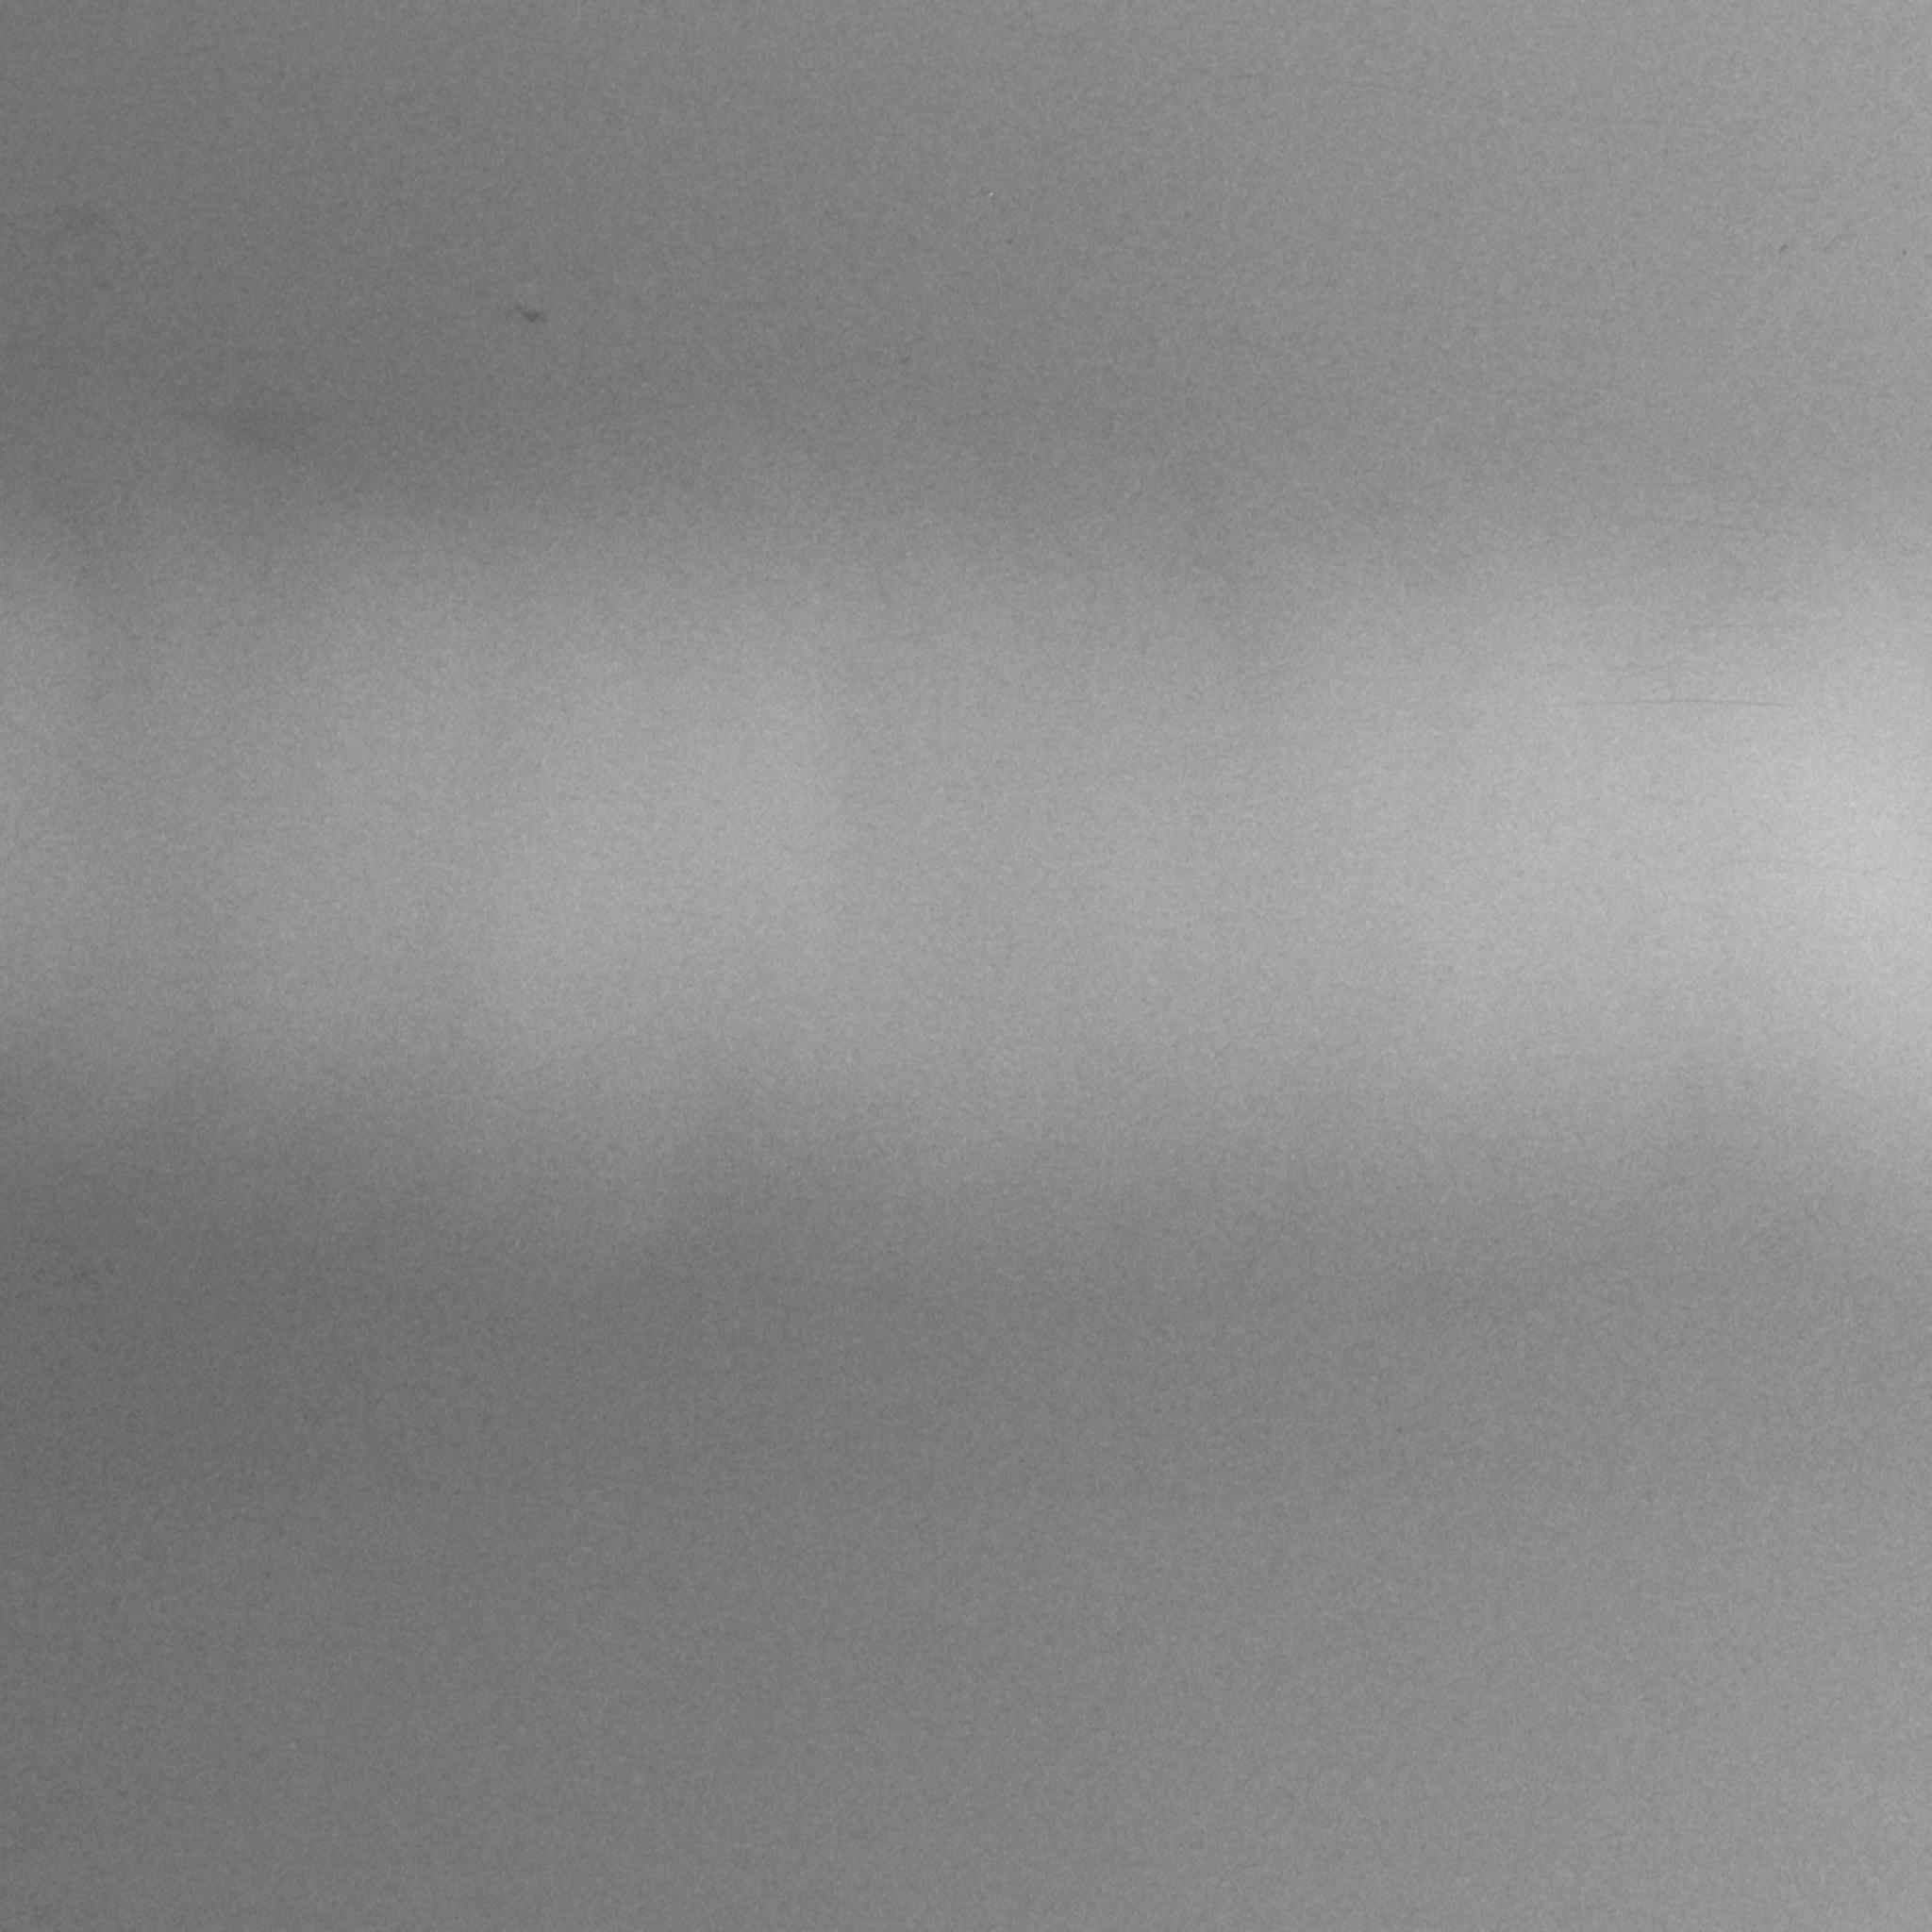PO: (503, 289, 564, 346), (1438, 958, 1465, 980)
Solda Ruim: (1432, 459, 1928, 741)
